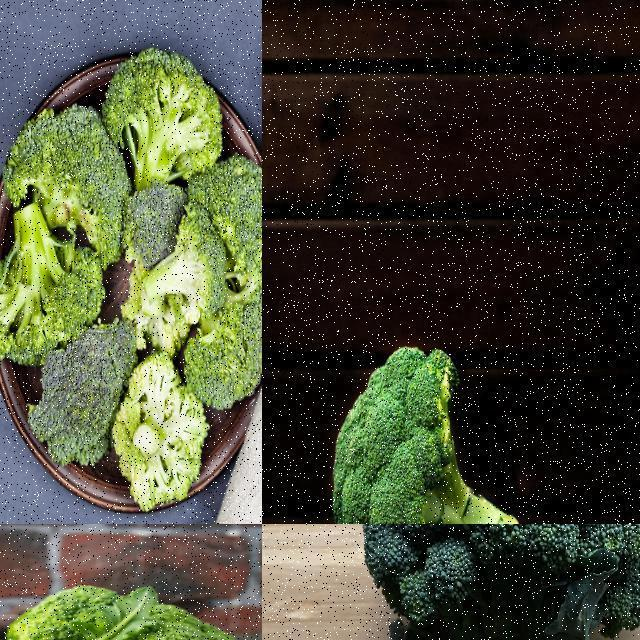broccoli: (331, 344, 534, 523), (355, 524, 639, 639), (2, 97, 128, 272), (105, 46, 225, 197), (0, 202, 105, 368), (3, 580, 261, 639), (109, 356, 202, 508), (174, 269, 261, 406), (144, 201, 232, 325)
